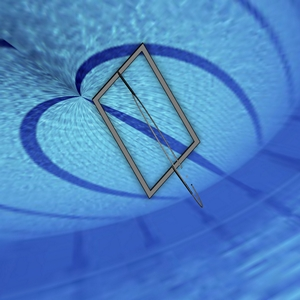circle: (91, 42, 206, 209)
